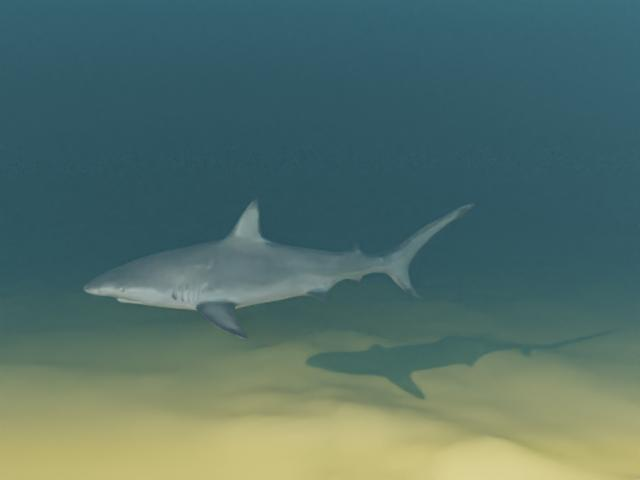Carribean Shark.001: (83, 199, 474, 339)
